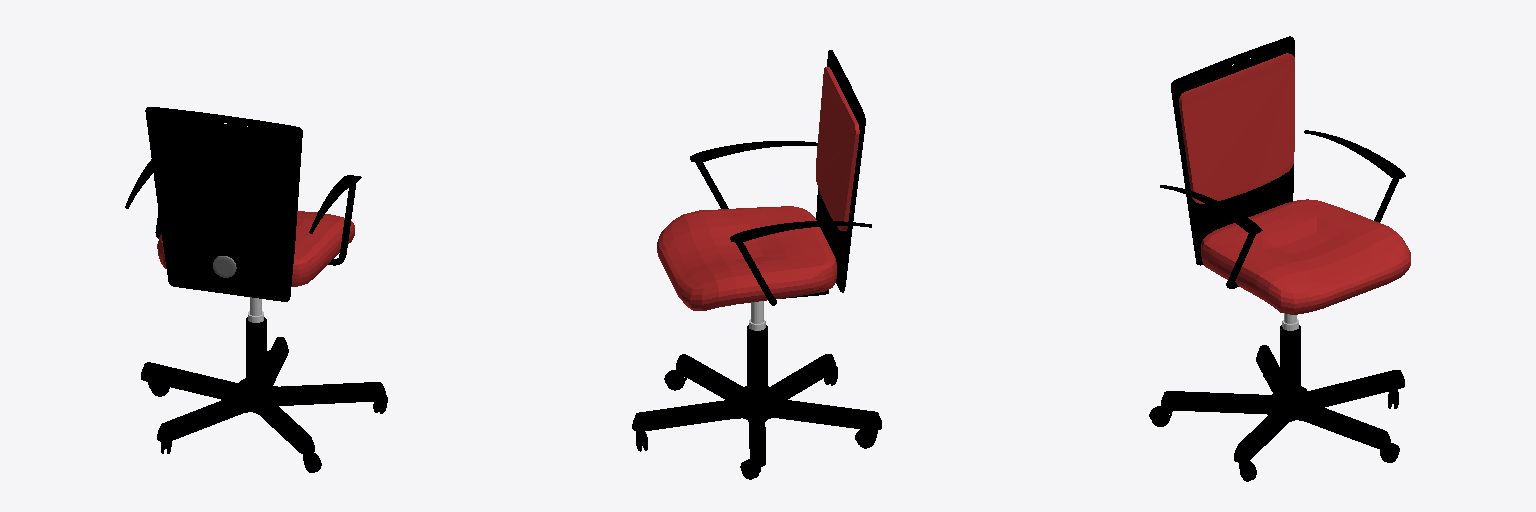
The model's file is office_chair.obj.
The picture shows the model from 3 angles: view 1: azimuth 30°, elevation 25°; view 2: azimuth 150°, elevation 25°; view 3: azimuth 270°, elevation 25°; orthographic projection.
Parts seen in each view (by area): view 1: Color007.18, Object53, Box08, Object02, Loft70, Loft69; view 2: Box08, Object53, Rectangle53, Color007.18, Object02, Loft72, Loft70, Loft71; view 3: Box08, Rectangle53, Object53, Color007.18, Object02, Loft72, Loft70.
Boxes of the visible parts, x1=… form: Color007.18: x1=145, y1=107, x2=302, y2=301; Object53: x1=141, y1=337, x2=385, y2=454; Box08: x1=157, y1=211, x2=354, y2=286; Object02: x1=246, y1=317, x2=266, y2=386; Loft70: x1=309, y1=175, x2=361, y2=232; Loft69: x1=310, y1=182, x2=356, y2=265; Box08: x1=657, y1=206, x2=836, y2=310; Object53: x1=632, y1=354, x2=881, y2=466; Rectangle53: x1=816, y1=67, x2=859, y2=230; Color007.18: x1=816, y1=50, x2=865, y2=292; Object02: x1=747, y1=325, x2=767, y2=394; Loft72: x1=730, y1=221, x2=871, y2=242; Loft70: x1=690, y1=141, x2=817, y2=162; Loft71: x1=735, y1=226, x2=871, y2=305; Box08: x1=1201, y1=199, x2=1410, y2=314; Rectangle53: x1=1179, y1=53, x2=1294, y2=203; Object53: x1=1161, y1=345, x2=1404, y2=462; Color007.18: x1=1171, y1=36, x2=1294, y2=265; Object02: x1=1280, y1=325, x2=1300, y2=394; Loft72: x1=1304, y1=130, x2=1405, y2=179; Loft70: x1=1160, y1=185, x2=1262, y2=233.
Bounding box in the file's own units: 285 × 396 × 274.